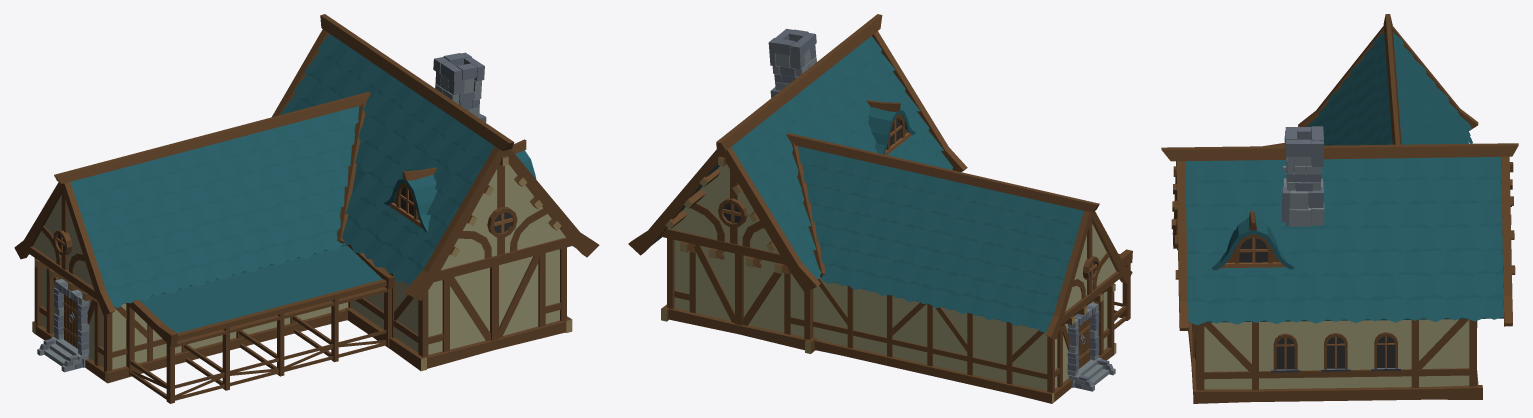
The model's file is stable_lev3.glb.
The picture shows the model from 3 angles, left to right: view 1: azimuth 30°, elevation 25°; view 2: azimuth 150°, elevation 25°; view 3: azimuth 270°, elevation 25°; orthographic projection. The views are drawn at different scales.
Visible parts, largest first — view 1: stable_lev3; view 2: stable_lev3; view 3: stable_lev3.
Part boxes in pixels (box(x1,y1,x2,y2)): stable_lev3: box(14, 14, 599, 403); stable_lev3: box(628, 14, 1132, 403); stable_lev3: box(1161, 14, 1518, 403).
Bounding box in the file's own units: 14.24 × 7.43 × 9.92.
